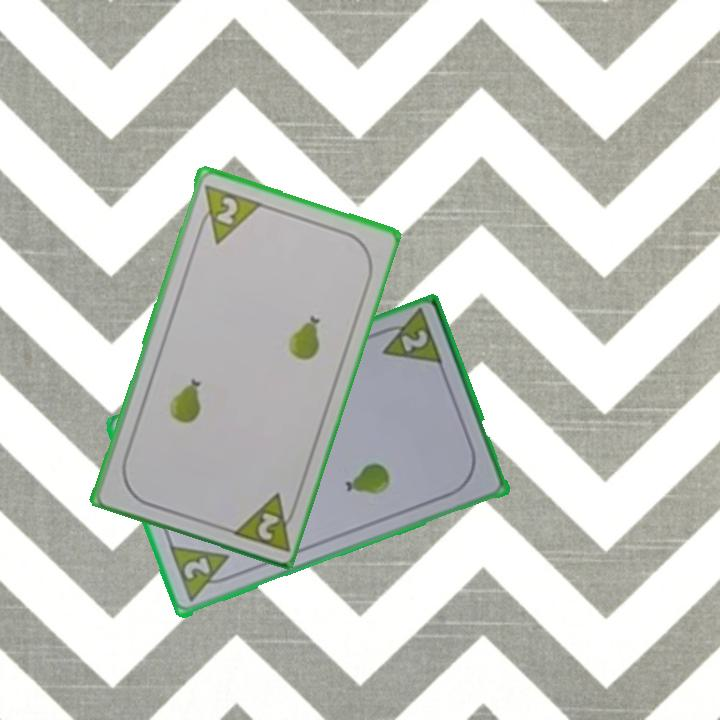2p: (226, 488, 300, 553), (192, 180, 263, 247), (372, 307, 446, 370), (166, 543, 239, 606)
